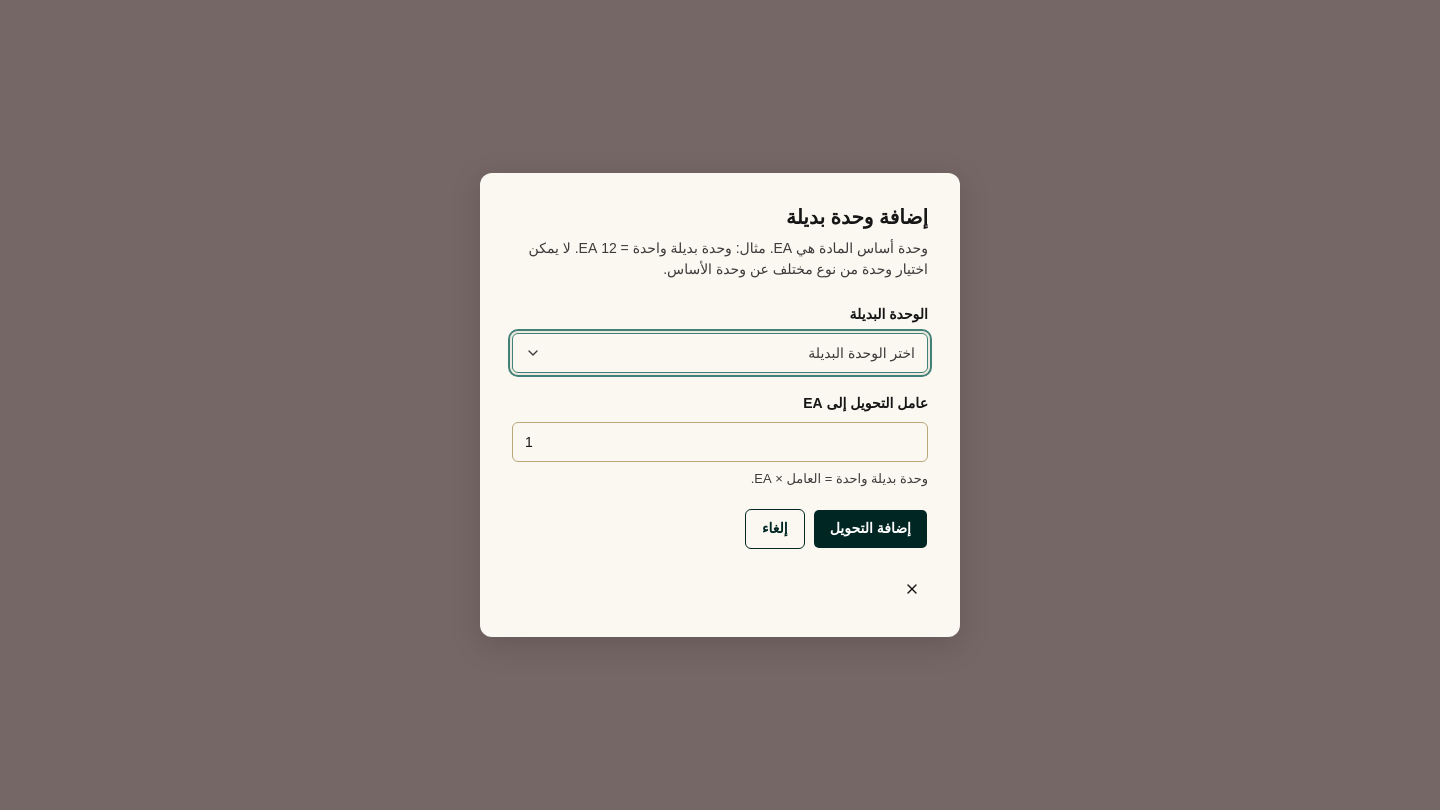
Test: MaterialUnitConversionFormDialog › offers only units whose unitType matches the base unit, case-insensitively
This screenshot has width=1440, height=810.
Click the dropdown labelled "الوحدة البديلة".
click(862, 353)  # box [512, 333, 928, 373]
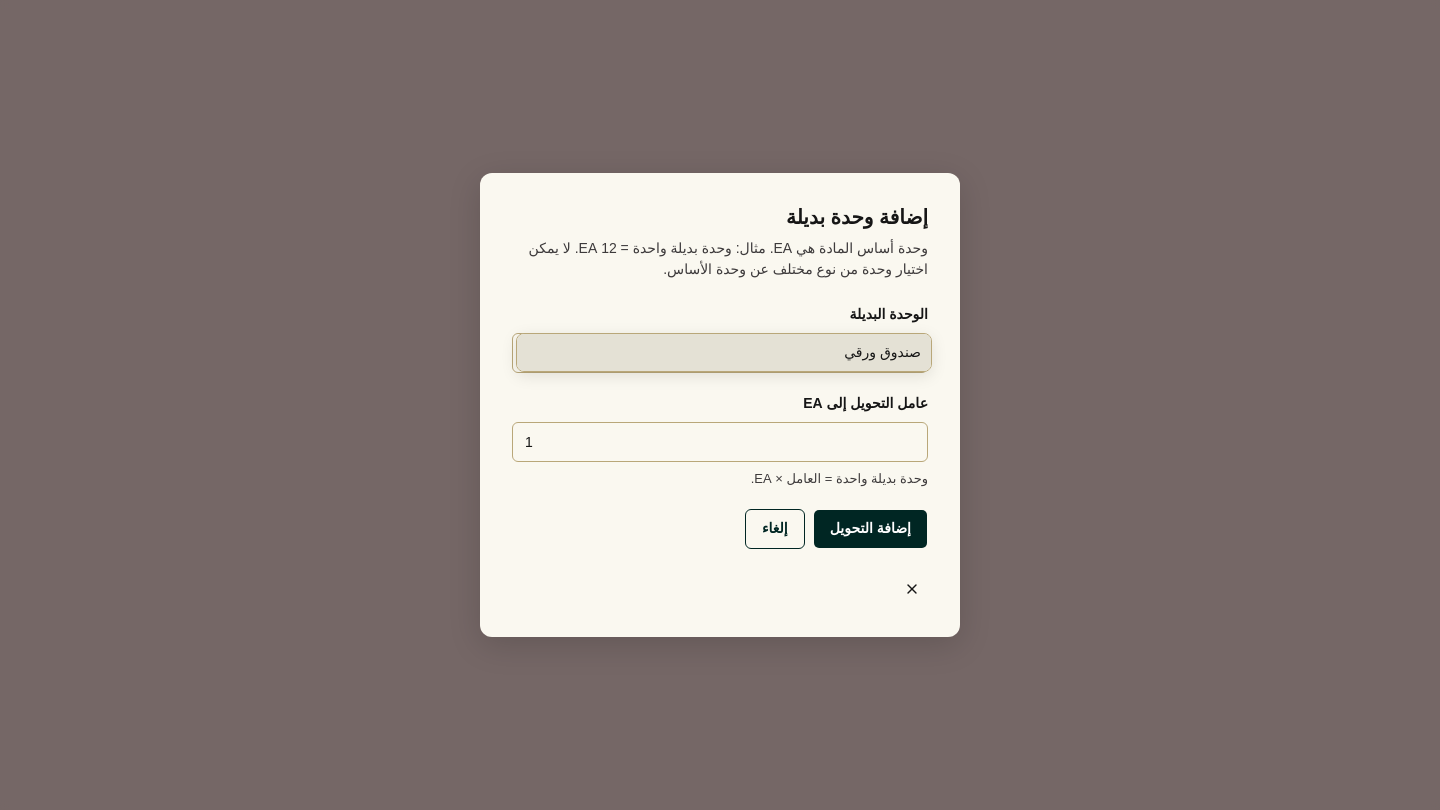
Expected: the option "صندوق ورقي" is shown, [517, 334, 931, 371]
